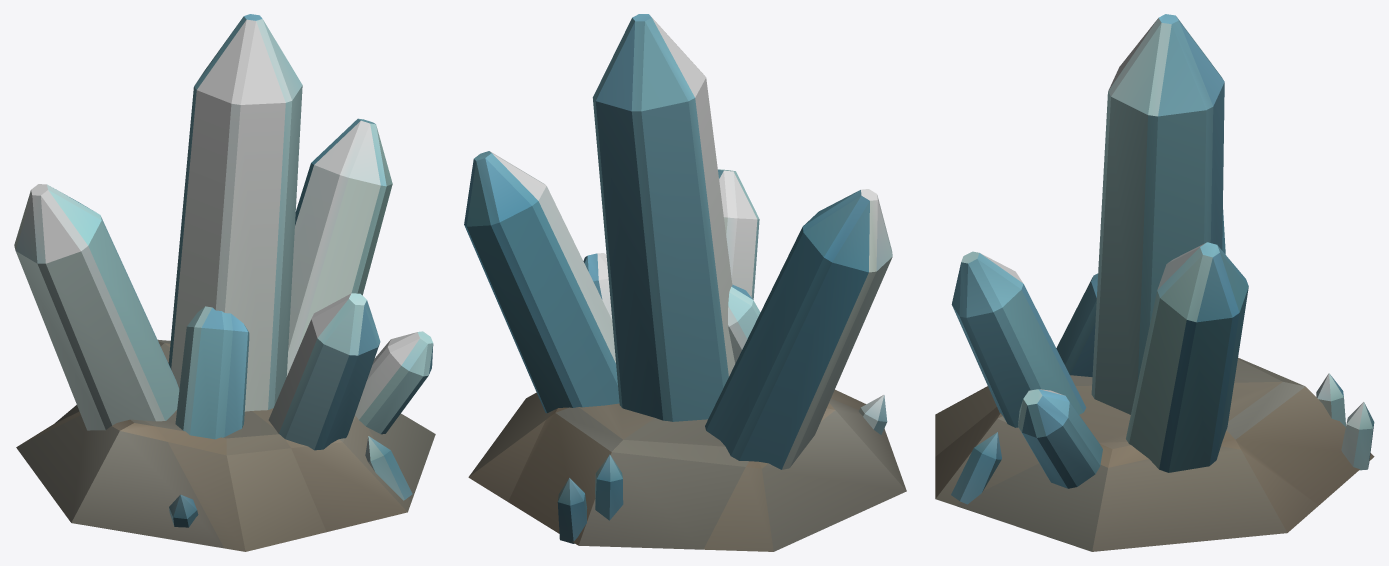
Rendered from glass-crystals.glb.
3 renders of one model, left to right at view 1: azimuth 30°, elevation 25°; view 2: azimuth 150°, elevation 25°; view 3: azimuth 270°, elevation 25°, orthographic. The views are drawn at different scales.
Visible parts, largest first — view 1: glass-crystals; view 2: glass-crystals; view 3: glass-crystals.
Boxes of the visible parts, x1,y1,x2,y2 form: glass-crystals: [14, 14, 435, 551]; glass-crystals: [464, 14, 906, 551]; glass-crystals: [935, 14, 1374, 551].
Bounding box in the file's own units: 0.814 × 0.8857 × 0.7604.
